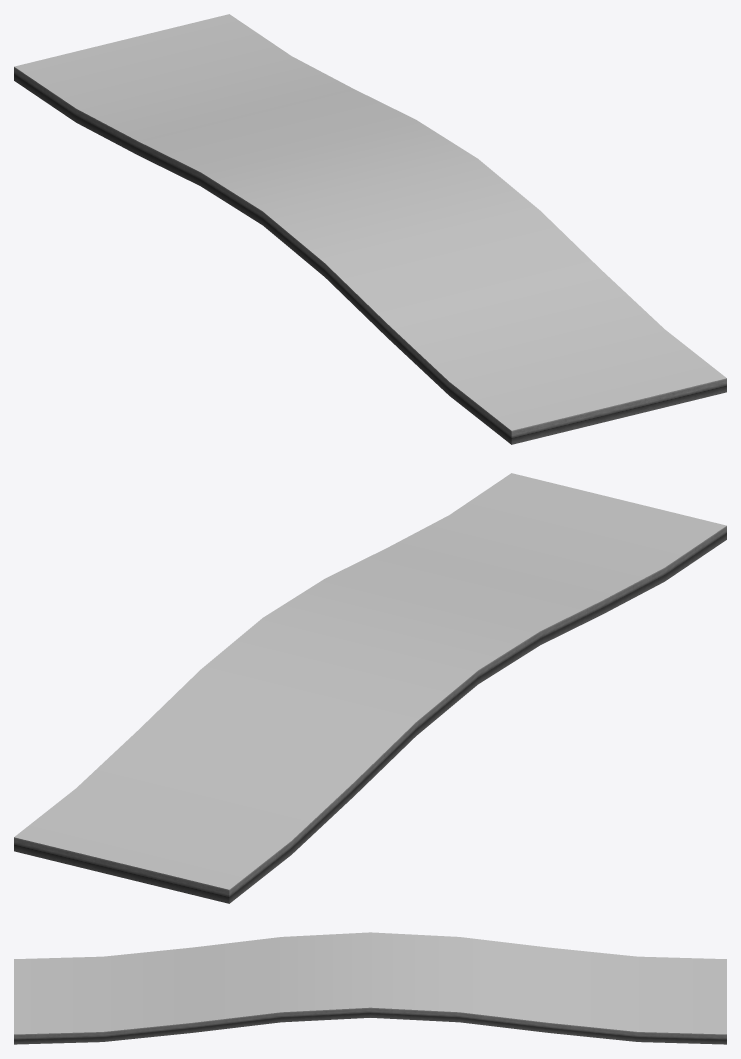
The model's file is StrHill01.fbx.
3 views of the same model, one above another, from view 1: azimuth 30°, elevation 25°; view 2: azimuth 150°, elevation 25°; view 3: azimuth 270°, elevation 25° (orthographic). The views are drawn at different scales.
Visible parts, largest first — view 1: Empty_Mesh; view 2: Empty_Mesh; view 3: Empty_Mesh.
Part boxes in pixels (<box>): Empty_Mesh: <box>14,14,726,444</box>; Empty_Mesh: <box>14,473,726,903</box>; Empty_Mesh: <box>14,932,726,1044</box>.
Bounding box in the file's own units: 1600 × 365 × 6400.
